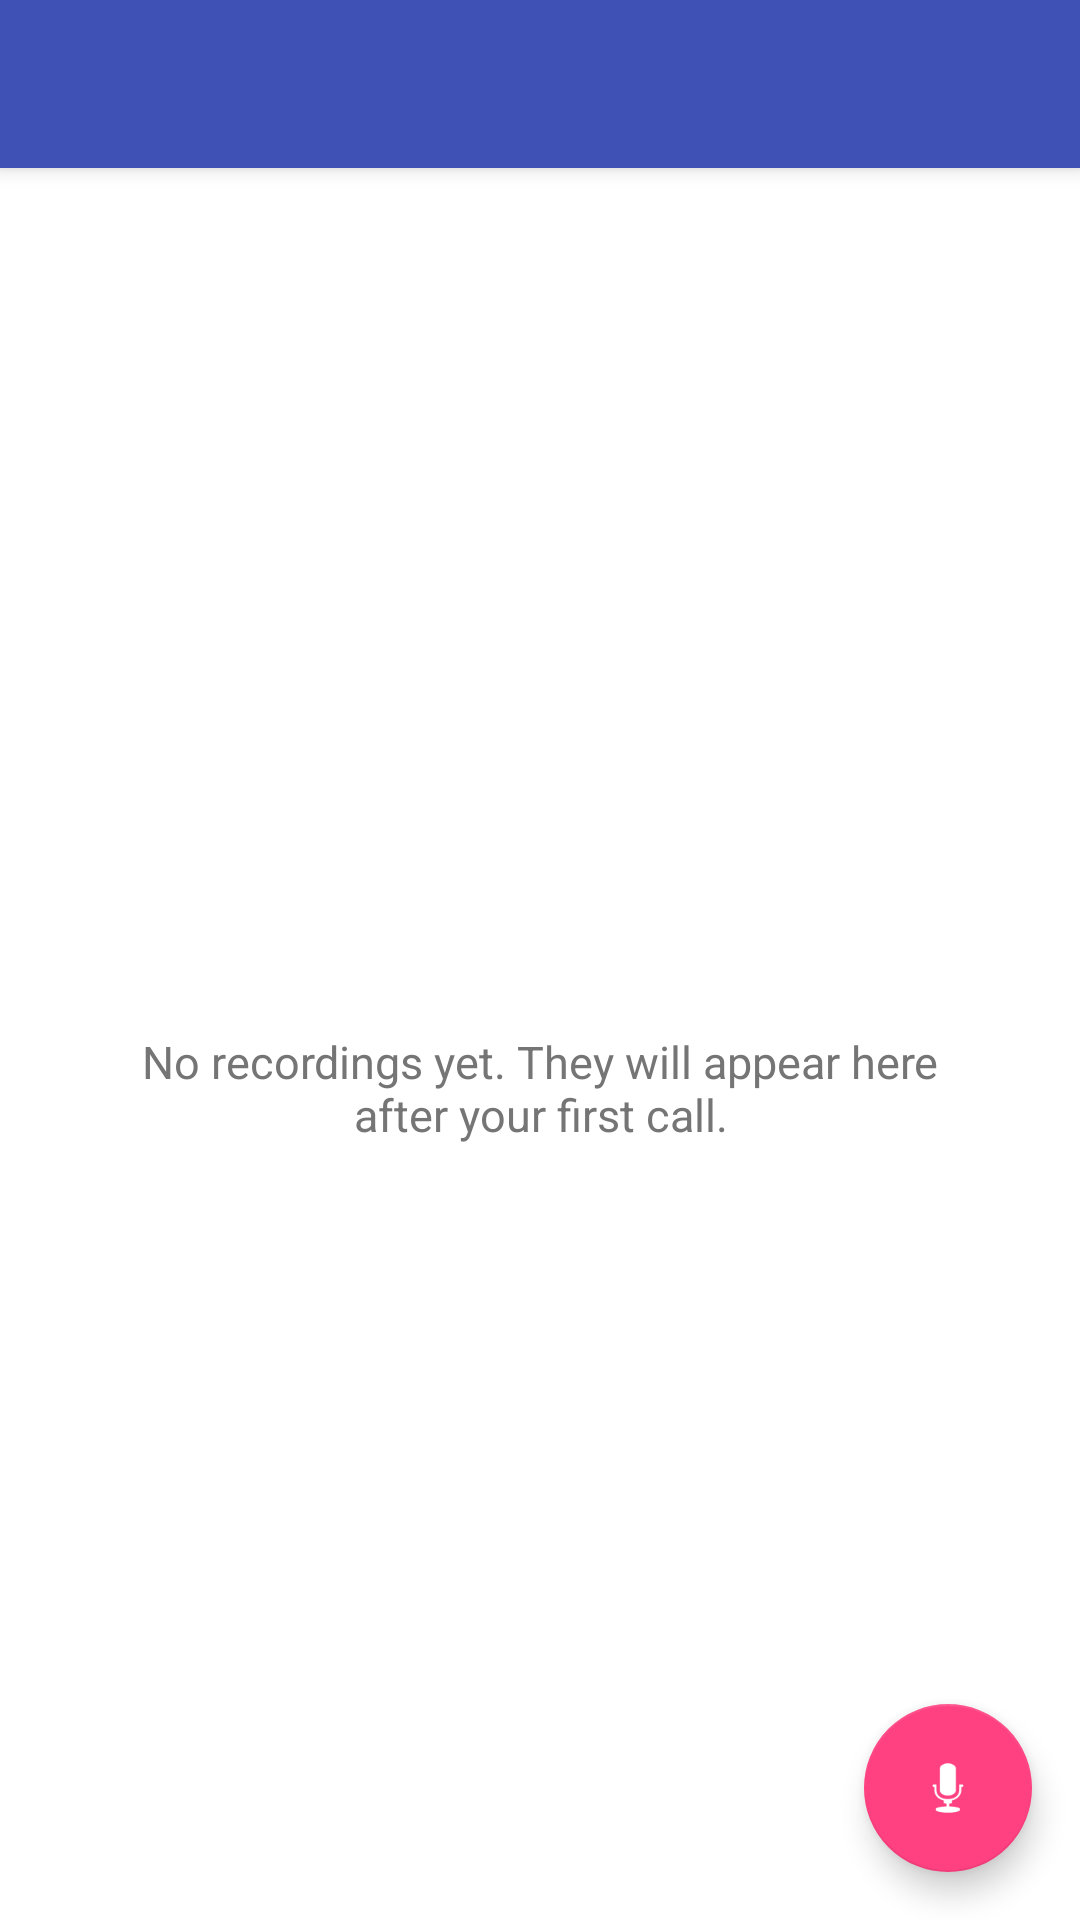

Locate icon controls on the screen. Image size 1080*1920, boxes as (x1, y1, x2, y2).
Enable call recording: (864, 1704, 1032, 1872)
